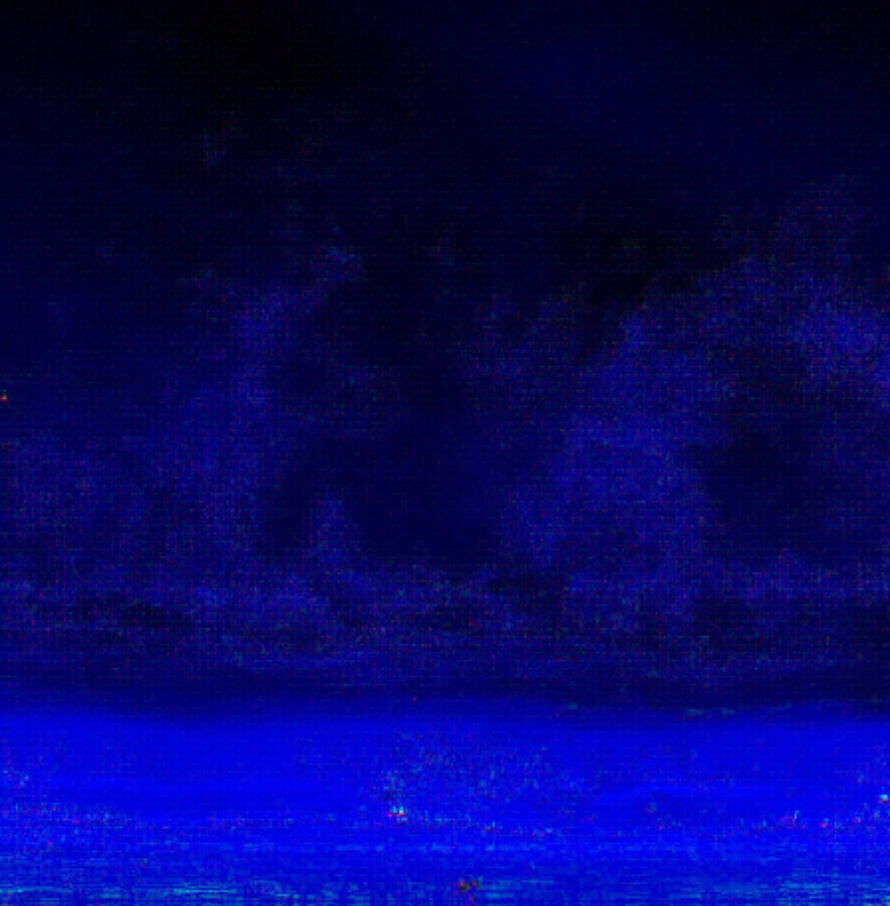rip_current: (265, 247, 597, 598)
